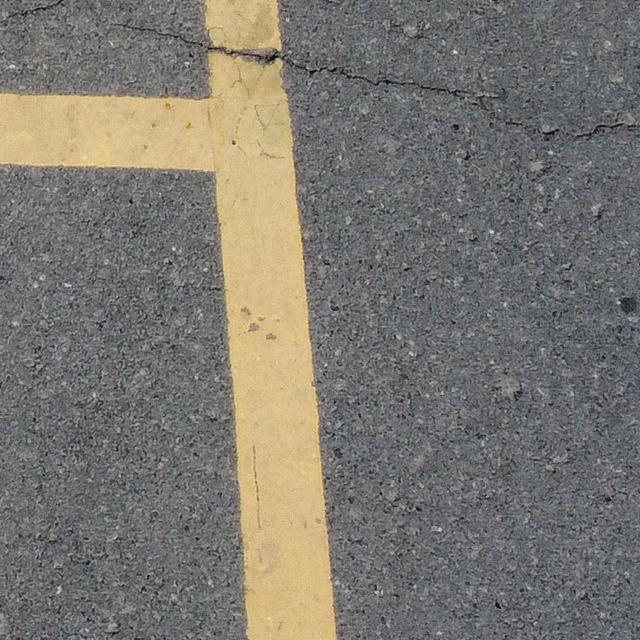TransverseCrack: (112, 19, 640, 137), (1, 1, 62, 25)
